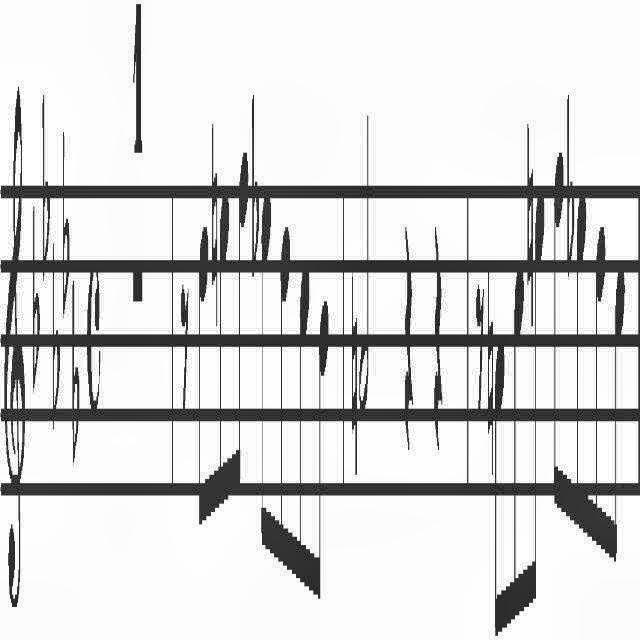Bass-clef: (0, 52, 30, 640)
Bemol: (70, 248, 82, 532), (28, 170, 42, 408), (38, 78, 50, 306), (49, 214, 60, 443), (566, 71, 576, 305), (59, 105, 69, 319)
Eighth-note: (510, 236, 526, 640), (534, 161, 548, 619), (314, 272, 331, 640), (278, 200, 294, 588), (552, 132, 566, 558), (259, 152, 273, 556), (297, 235, 311, 613), (492, 310, 508, 640), (577, 165, 589, 583), (236, 130, 248, 542), (613, 222, 627, 570), (195, 226, 211, 530), (218, 167, 230, 513), (595, 195, 605, 570)
Eighth-rest: (174, 254, 190, 450), (472, 252, 484, 432)
Half-note: (358, 117, 370, 431)
Quarter-rest: (430, 214, 450, 516), (399, 195, 417, 517)
